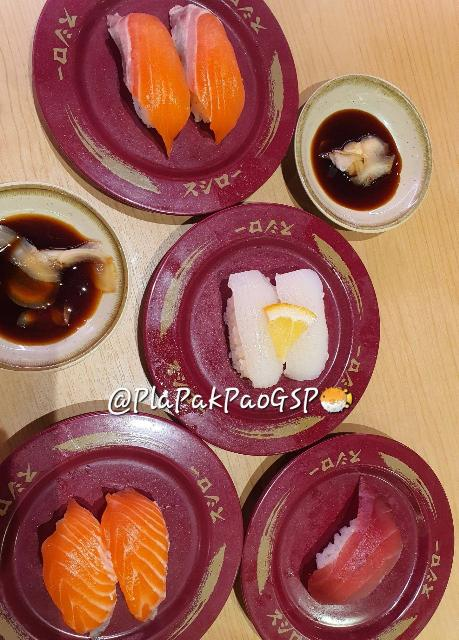janred: (20, 0, 296, 204), (8, 408, 232, 624), (167, 191, 361, 439), (218, 451, 434, 611)
